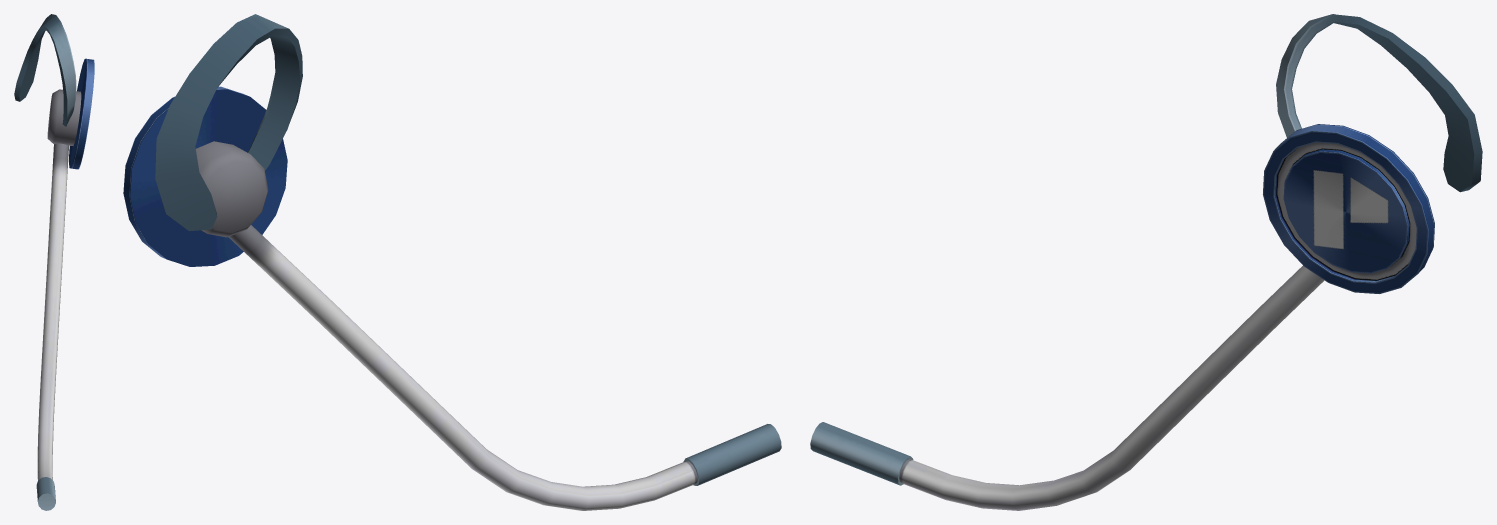
File: EntrainingIntercomMika.fbx
3 renders of one model, left to right at view 1: azimuth 30°, elevation 25°; view 2: azimuth 150°, elevation 25°; view 3: azimuth 270°, elevation 25°, orthographic. The views are drawn at different scales.
Visible parts, largest first — view 1: EntrainingIntercomMika; view 2: EntrainingIntercomMika; view 3: EntrainingIntercomMika.
Boxes of the visible parts, <box> form: EntrainingIntercomMika: <box>14,14,94,510</box>; EntrainingIntercomMika: <box>123,14,781,510</box>; EntrainingIntercomMika: <box>810,14,1482,510</box>.
Bounding box in the file's own units: 0.0515 × 0.076 × 0.0783.
1 material, 1 textured.
